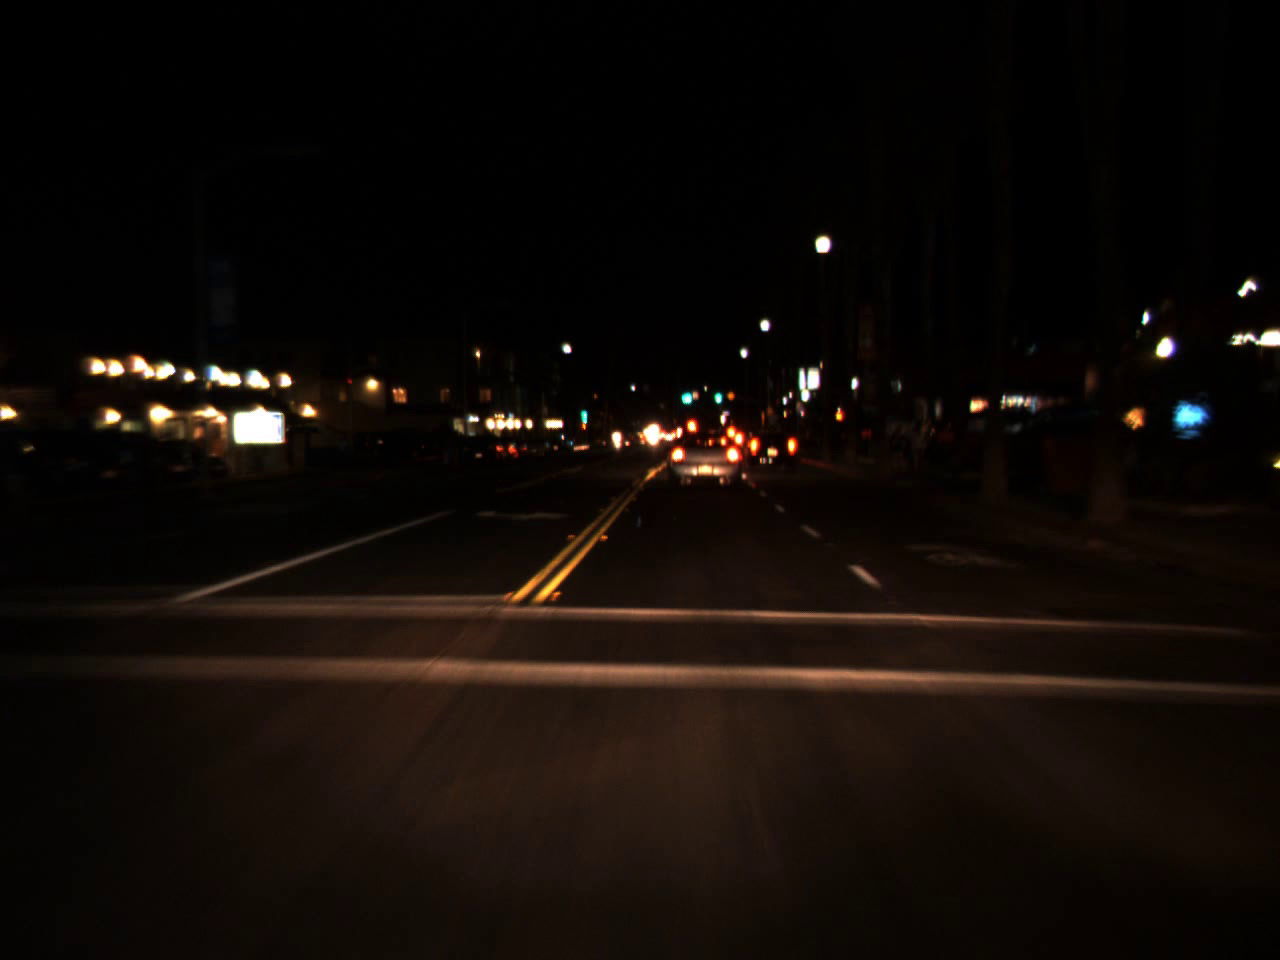go: (677, 383, 693, 404), (580, 400, 587, 424), (713, 386, 723, 401)
